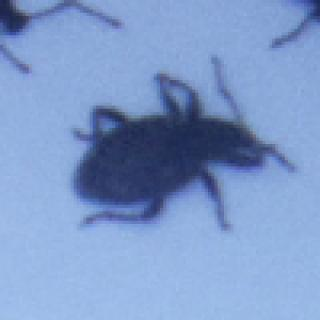bvw: (70, 52, 298, 240)
